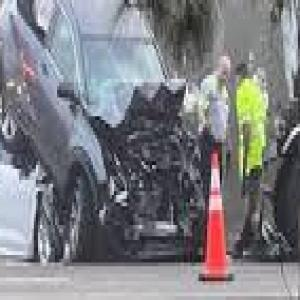critical: (0, 0, 211, 270)
